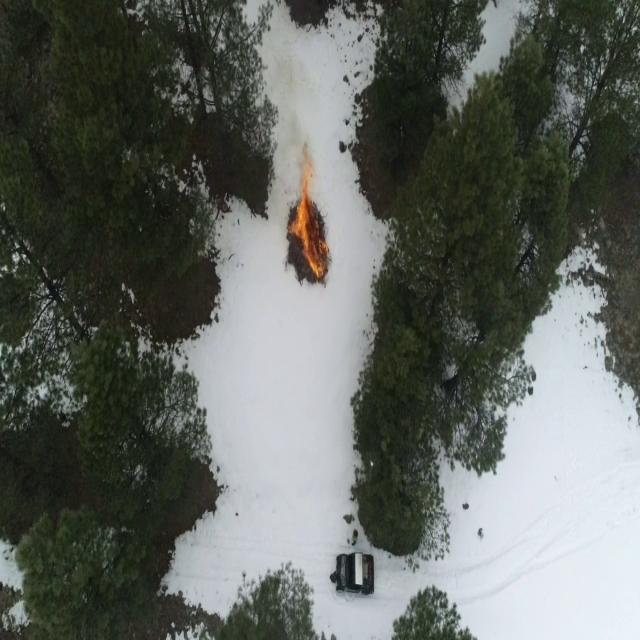fire: (290, 173, 330, 278)
